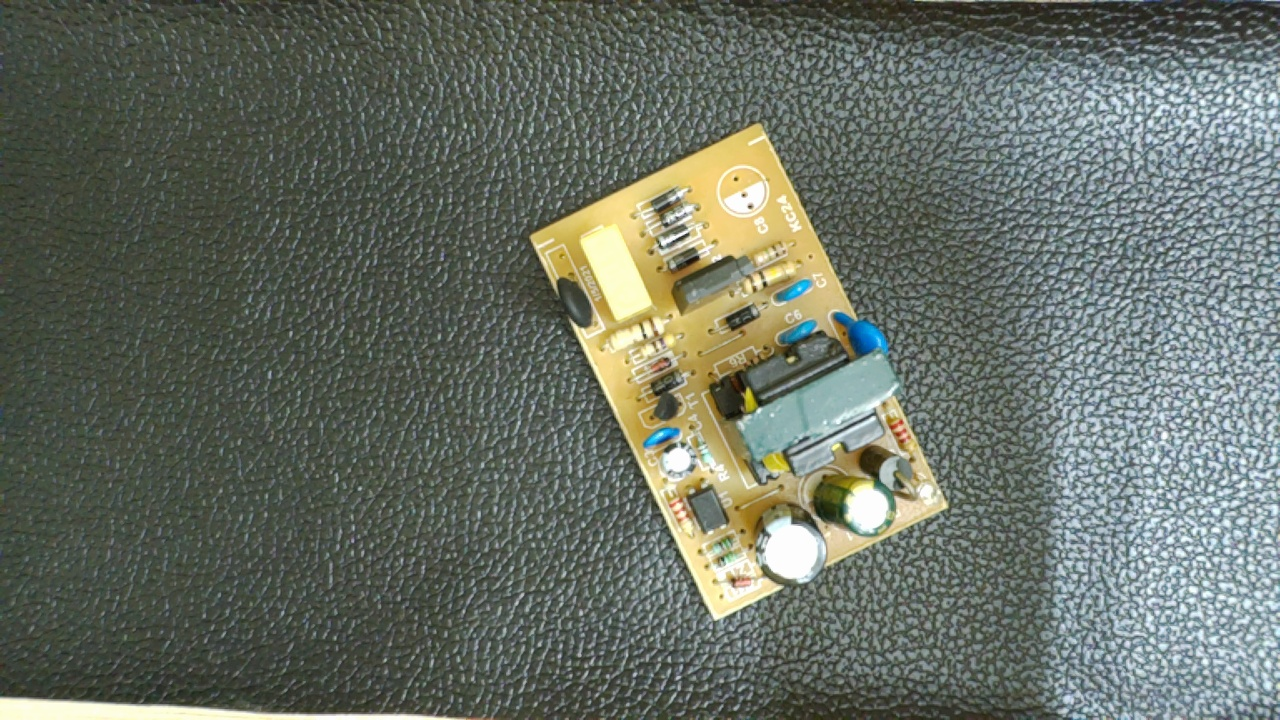fuse: (545, 275, 602, 330)
mov: (824, 309, 897, 362)
optocoupler: (684, 476, 738, 537)
